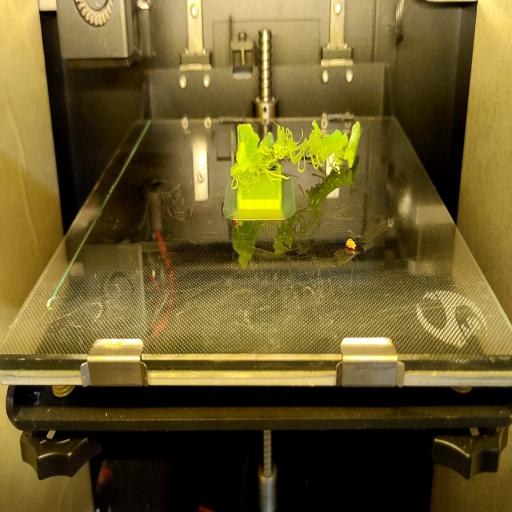spaghetti: (229, 116, 343, 187)
